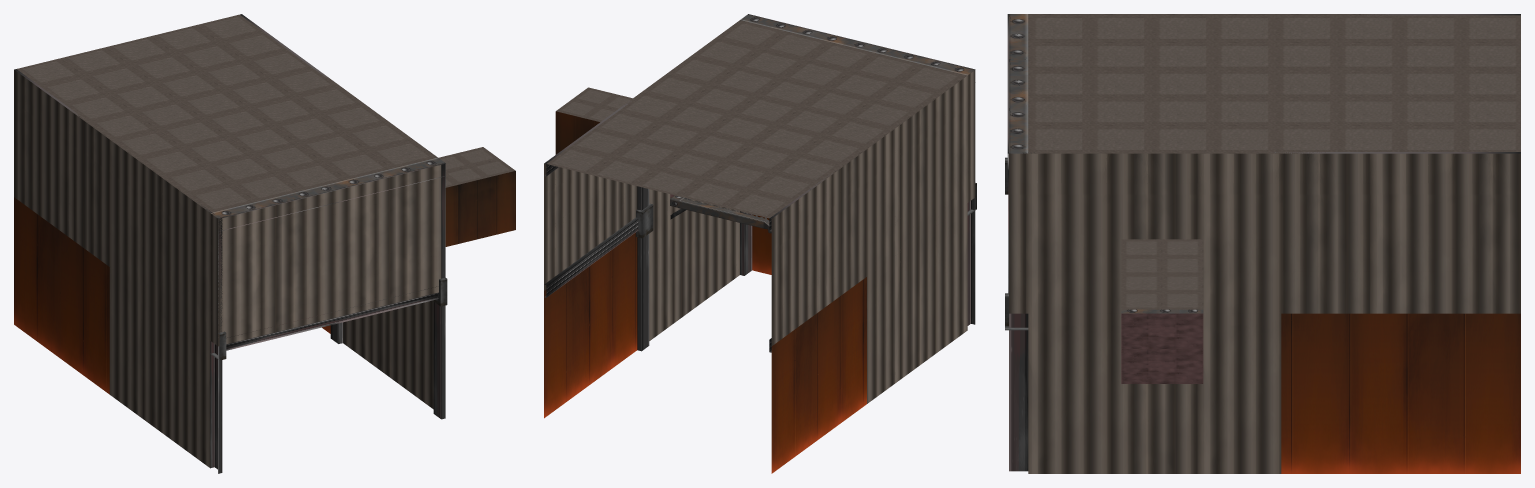
File: molten_hall_beginning.fbx
3 renders of one model, left to right at view 1: azimuth 30°, elevation 25°; view 2: azimuth 150°, elevation 25°; view 3: azimuth 270°, elevation 25°, orthographic. The views are drawn at different scales.
Parts seen in each view (by area): view 1: hall_entrance, ReinforcedBars; view 2: hall_entrance, ReinforcedBars, Bridge; view 3: hall_entrance, Floor, ReinforcedBars.
Part boxes in pixels (left/top/right/bottom): hall_entrance: left=14, top=14, right=515, bottom=467; ReinforcedBars: left=14, top=14, right=447, bottom=473; hall_entrance: left=544, top=14, right=975, bottom=473; ReinforcedBars: left=544, top=14, right=976, bottom=352; Bridge: left=670, top=195, right=771, bottom=233; hall_entrance: left=1009, top=14, right=1520, bottom=473; Floor: left=1121, top=313, right=1203, bottom=383; ReinforcedBars: left=1005, top=14, right=1520, bottom=471.
Size of the model in its own units: 2728 by 1942 by 2832.
